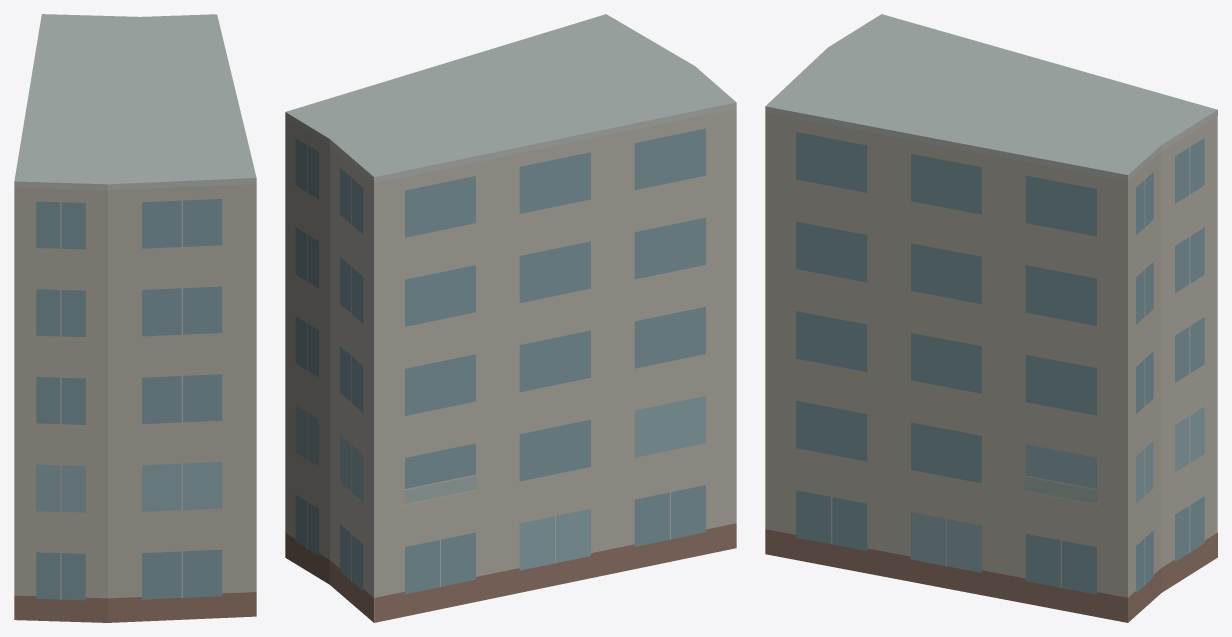
The model's file is survey-upis-32867128.glb.
3 renders of one model, left to right at view 1: azimuth 30°, elevation 25°; view 2: azimuth 150°, elevation 25°; view 3: azimuth 270°, elevation 25°, orthographic. The views are drawn at different scales.
Parts seen in each view (by area): view 1: survey-upis-32867128.tmp; view 2: survey-upis-32867128.tmp; view 3: survey-upis-32867128.tmp.
Boxes of the visible parts, x1,y1,x2,y2 form: survey-upis-32867128.tmp: (14, 14, 256, 622); survey-upis-32867128.tmp: (285, 14, 736, 622); survey-upis-32867128.tmp: (765, 14, 1217, 622).
Size of the model in its own units: 13.63 by 17.65 by 16.17.
